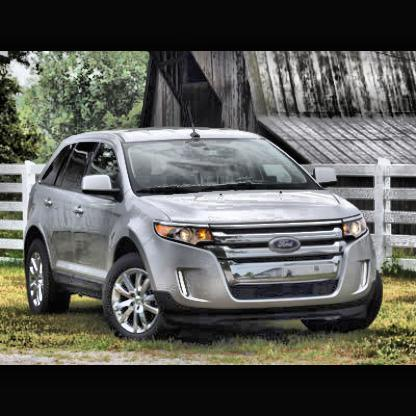Ford Edge SUV 2012: (27, 128, 383, 344)
